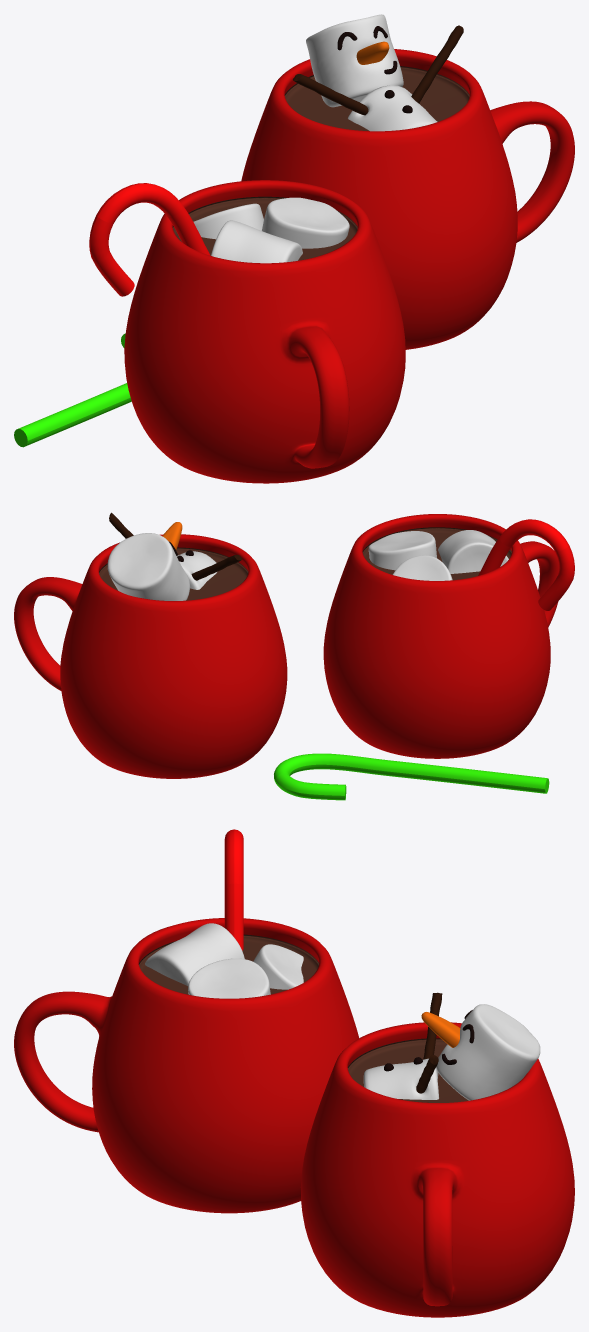
File: Hot_Chocolate.fbx
3 renders of one model, top to bottom at view 1: azimuth 30°, elevation 25°; view 2: azimuth 150°, elevation 25°; view 3: azimuth 270°, elevation 25°, orthographic. The views are drawn at different scales.
Visible parts, largest first — view 1: Line004, Line001, Cylinder36670, Loft004, Object004, Cylinder36676, Cylinder36678, sculpted_mallows, Loft005, Object005, Cylinder36677, Cylinder36668 (+1 smaller); view 2: Line001, Line004, Loft005, Cylinder36670, Loft004, Cylinder36678, Cylinder36676, Object004, Cylinder36677, Object005, sculpted_mallows, Cylinder36673; view 3: Line004, Line001, Cylinder36670, Cylinder36678, Cylinder36676, Object004, Loft004, sculpted_mallows, Object005, Cylinder36677, Box002.
Boxes of the visible parts, bbox=[...] form: Line004: bbox=[124, 180, 405, 483]; Line001: bbox=[241, 49, 574, 349]; Cylinder36670: bbox=[306, 14, 403, 107]; Loft004: bbox=[89, 183, 210, 296]; Object004: bbox=[284, 66, 469, 131]; Cylinder36676: bbox=[262, 197, 349, 248]; Cylinder36678: bbox=[211, 220, 302, 263]; sculpted_mallows: bbox=[348, 85, 437, 131]; Loft005: bbox=[14, 333, 131, 447]; Object005: bbox=[172, 196, 357, 260]; Cylinder36677: bbox=[193, 203, 263, 239]; Cylinder36668: bbox=[411, 25, 463, 103]; Line001: bbox=[14, 534, 287, 778]; Line004: bbox=[323, 514, 559, 758]; Loft005: bbox=[274, 753, 549, 800]; Cylinder36670: bbox=[107, 533, 189, 600]; Loft004: bbox=[478, 519, 574, 610]; Cylinder36678: bbox=[438, 530, 508, 573]; Cylinder36676: bbox=[368, 531, 436, 570]; Object004: bbox=[99, 547, 248, 600]; Cylinder36677: bbox=[392, 555, 452, 580]; Object005: bbox=[362, 527, 511, 580]; sculpted_mallows: bbox=[176, 551, 216, 589]; Cylinder36673: bbox=[191, 555, 242, 580]; Line004: bbox=[14, 918, 358, 1213]; Line001: bbox=[300, 1022, 574, 1317]; Cylinder36670: bbox=[436, 1004, 540, 1100]; Cylinder36678: bbox=[145, 923, 244, 985]; Cylinder36676: bbox=[188, 958, 270, 998]; Object004: bbox=[347, 1038, 468, 1102]; Loft004: bbox=[224, 829, 243, 950]; sculpted_mallows: bbox=[363, 1058, 438, 1099]; Object005: bbox=[138, 934, 319, 994]; Cylinder36677: bbox=[253, 944, 303, 989]; Box002: bbox=[421, 1012, 460, 1047].
Size of the model in its own units: 27.61 by 12.38 by 22.75.
